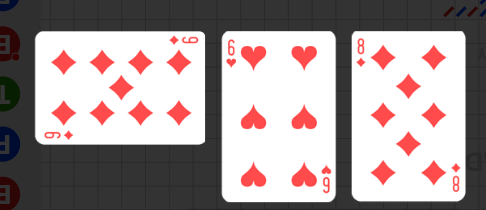8D: (355, 37, 367, 69)
9D: (167, 34, 200, 46), (43, 129, 75, 141)
